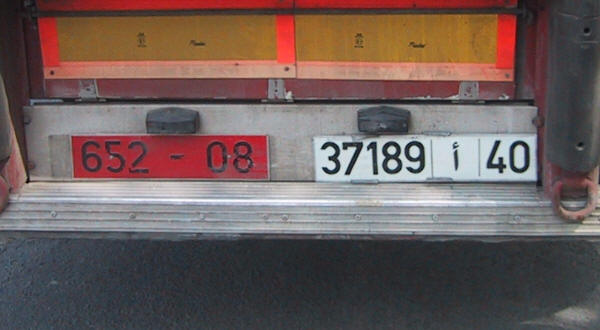number_plate: (312, 135, 537, 181)
